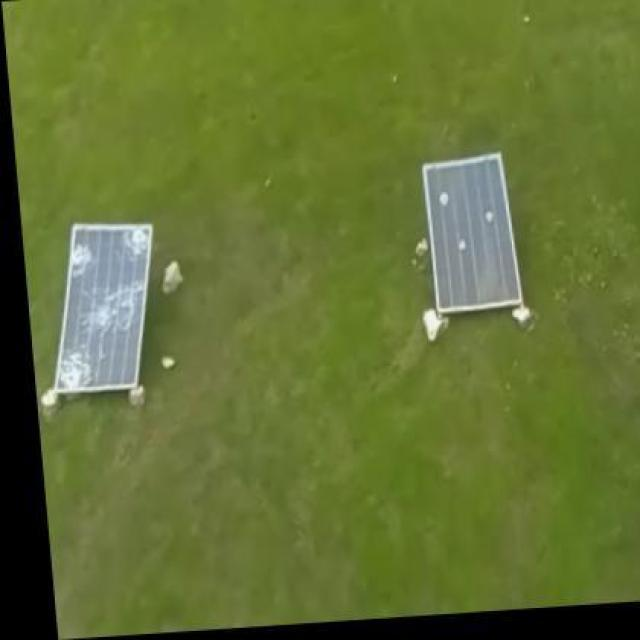cracked: (55, 220, 157, 400)
soiled: (424, 146, 524, 322)
